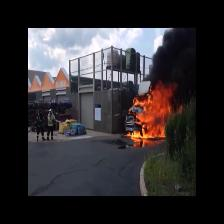fire: (132, 92, 168, 145)
smoke: (160, 33, 194, 90)
